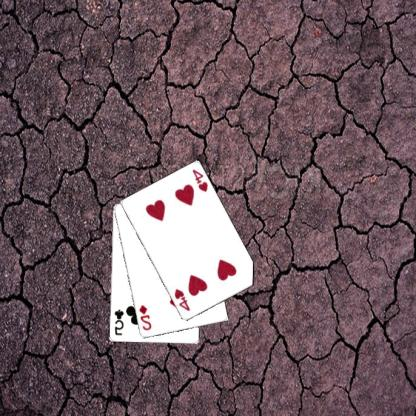2D: (138, 302, 154, 332)
4H: (173, 286, 193, 312), (192, 167, 210, 193)
5C: (114, 308, 126, 336)
